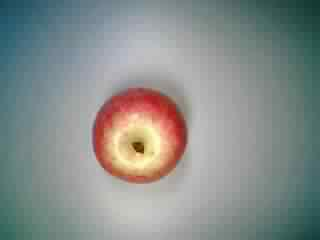apple: (89, 83, 193, 187)
